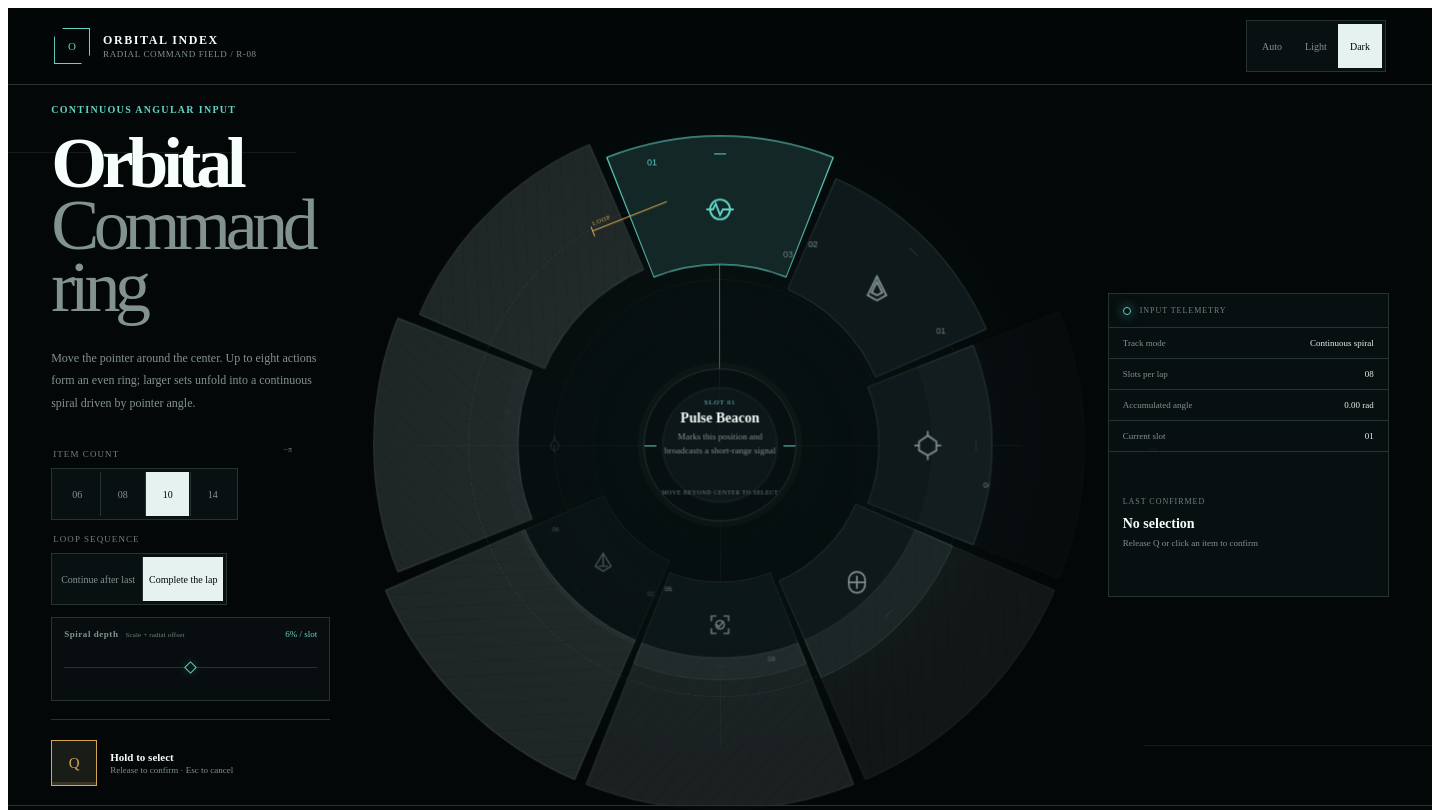
Test: RadialMenuPage › keeps the active slot when unrelated page state changes
Step 1. Click the button "Light" → (1316, 46), box x1=1294 y1=24 x2=1338 y2=68
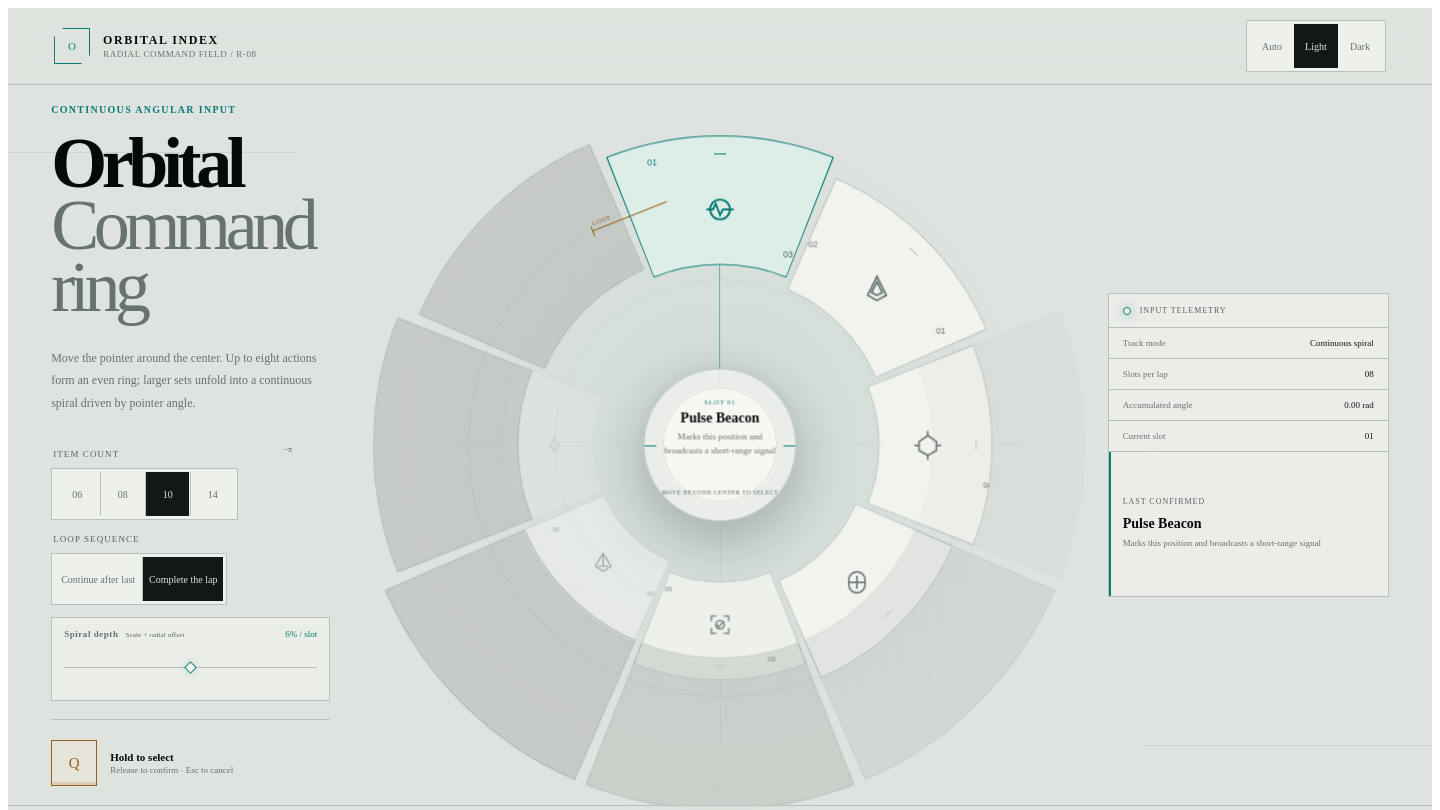
Expected: the text "Pulse Beacon" below "Last confirmed" is shown, x1=1123 y1=516 x2=1202 y2=531
